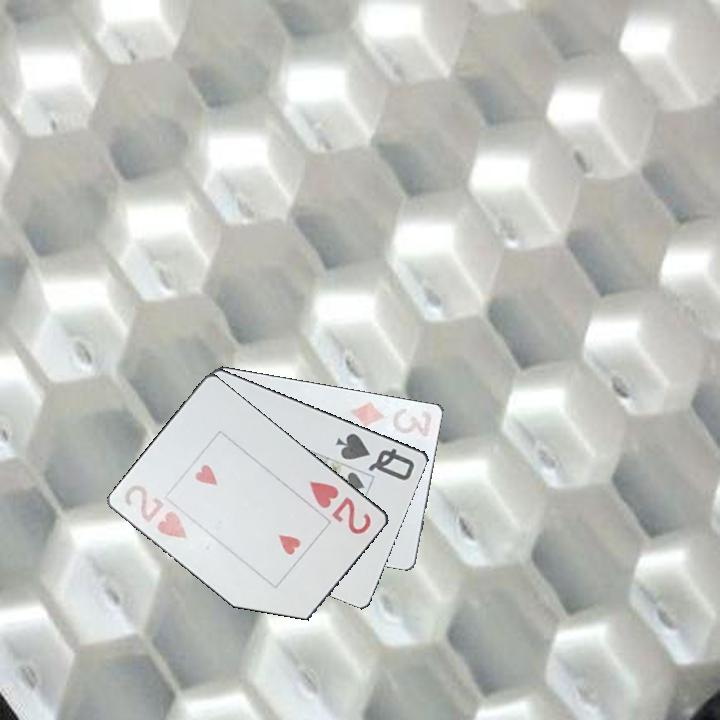2h: (121, 481, 191, 544), (306, 477, 374, 537)
3d: (347, 398, 436, 442)
Qs: (332, 429, 418, 483)
